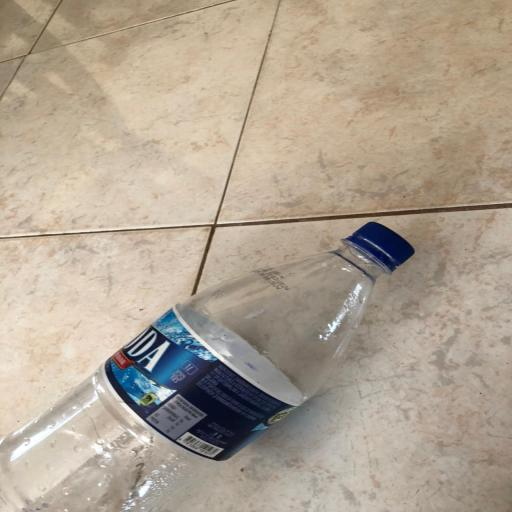waste: (0, 212, 427, 512)
